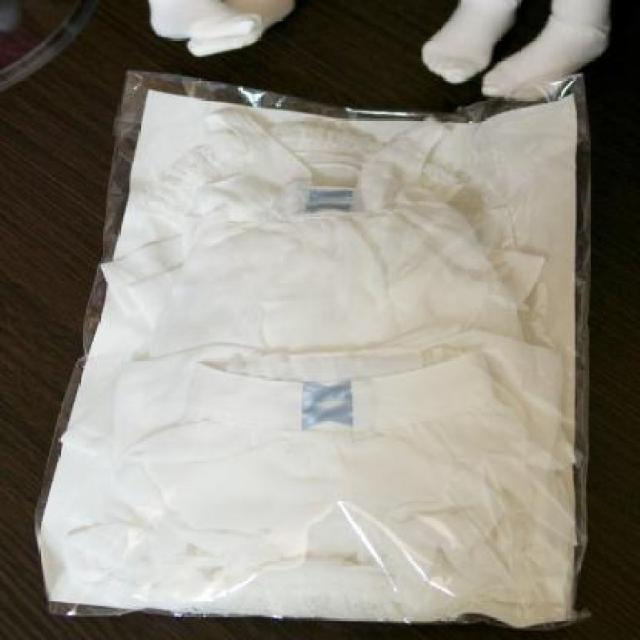plastic bag: (34, 64, 586, 636)
